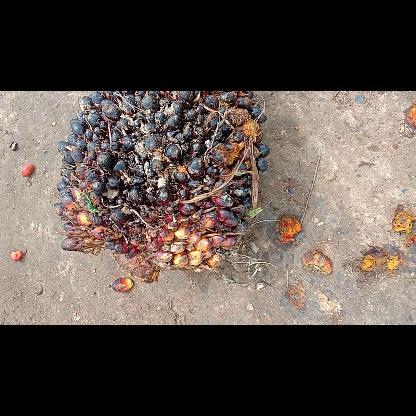TBS mentah: (52, 91, 270, 283)
